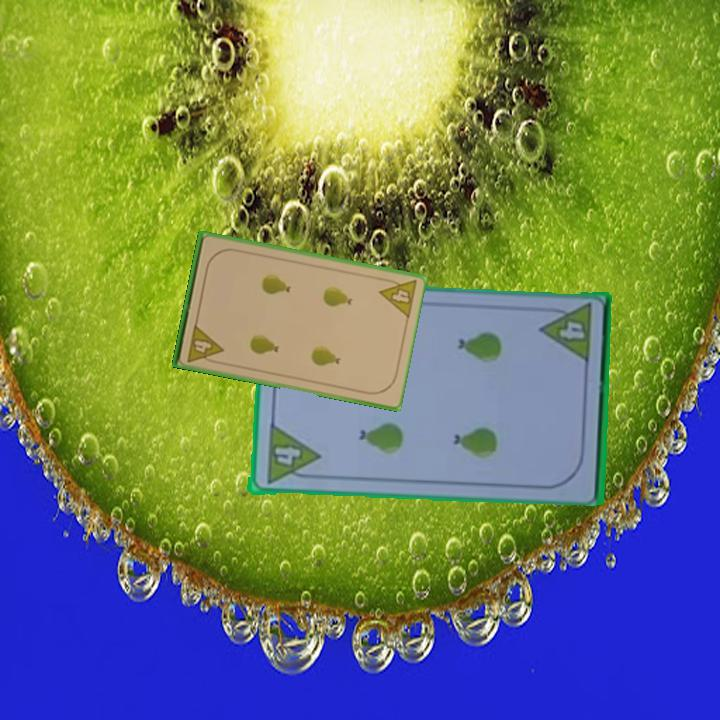4p: (262, 422, 321, 487), (536, 300, 595, 365), (375, 274, 419, 321), (184, 321, 225, 367)
